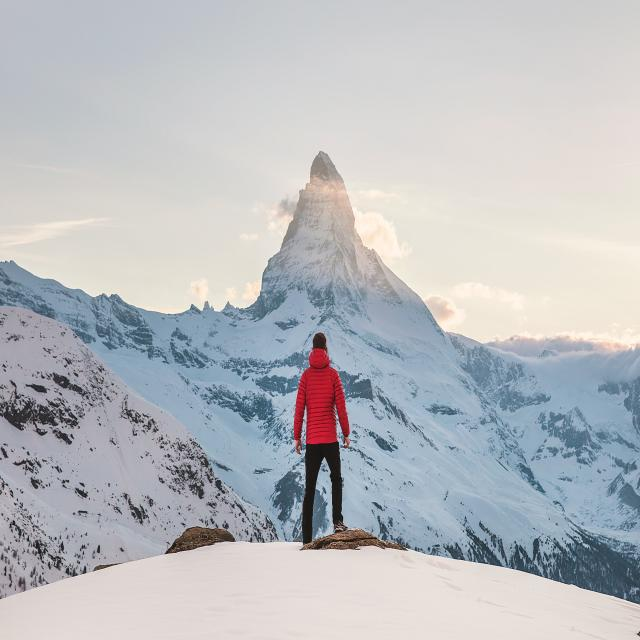standing: (293, 331, 355, 548)
